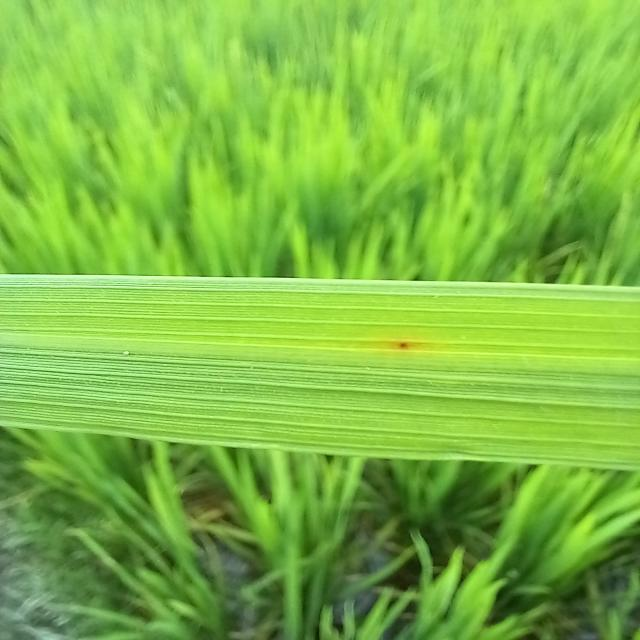Brown_Spot: (391, 339, 415, 351)
